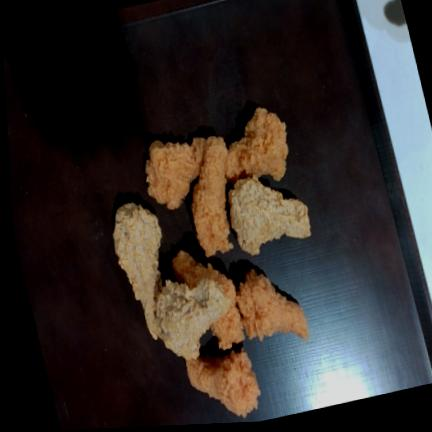chicken: (172, 250, 245, 349), (113, 202, 162, 339), (229, 176, 310, 255), (156, 279, 230, 360), (237, 269, 309, 340), (186, 351, 261, 417), (192, 136, 233, 256), (226, 107, 288, 183), (146, 137, 207, 209)
